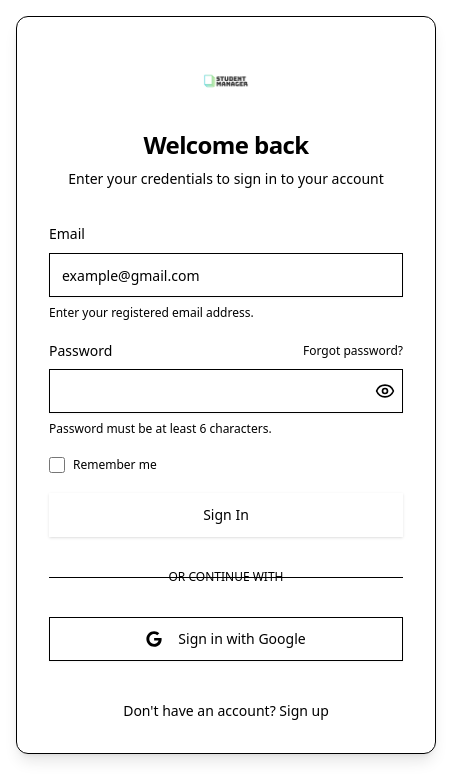
it: LoginPage › shows loading state during Google sign-in
Click the button "Sign in with Google". click: (226, 639)
box: [49, 617, 403, 661]
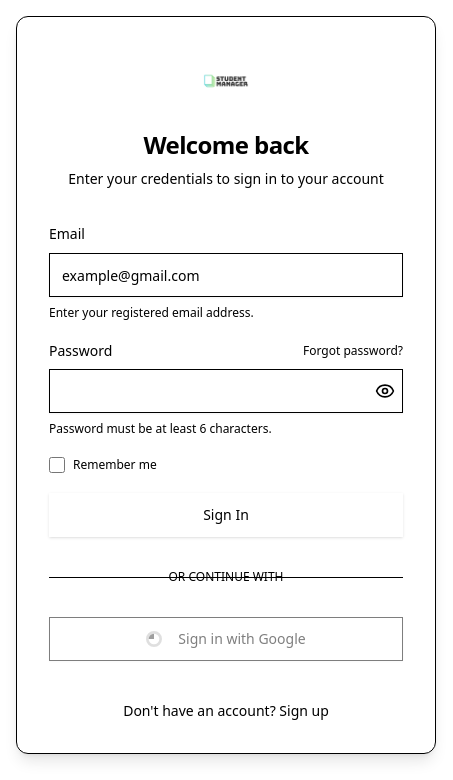
Check: the button "Sign in with Google" is disabled, box [49, 617, 403, 661]
